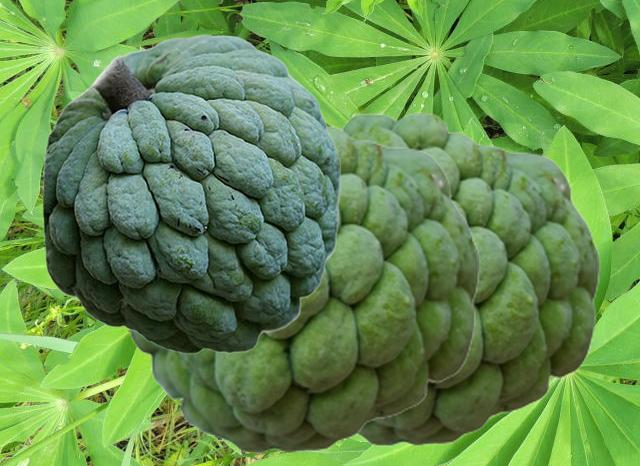atis: (124, 122, 479, 452), (42, 34, 340, 353), (340, 112, 599, 445)
